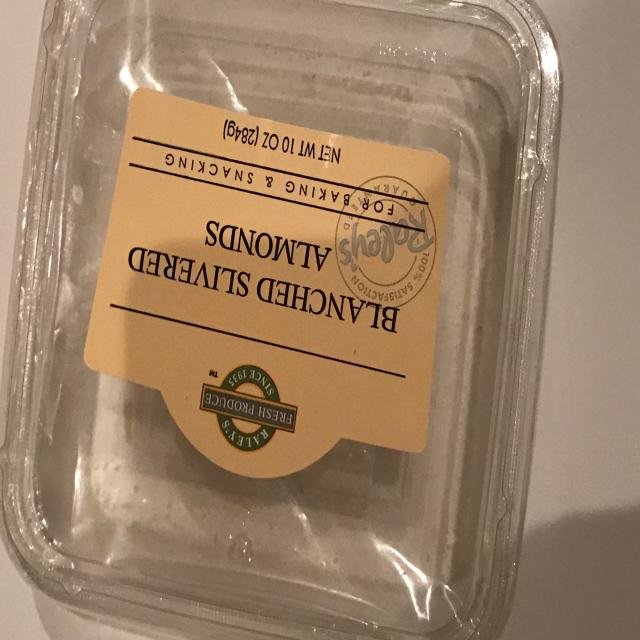plastic: (1, 1, 562, 638)
